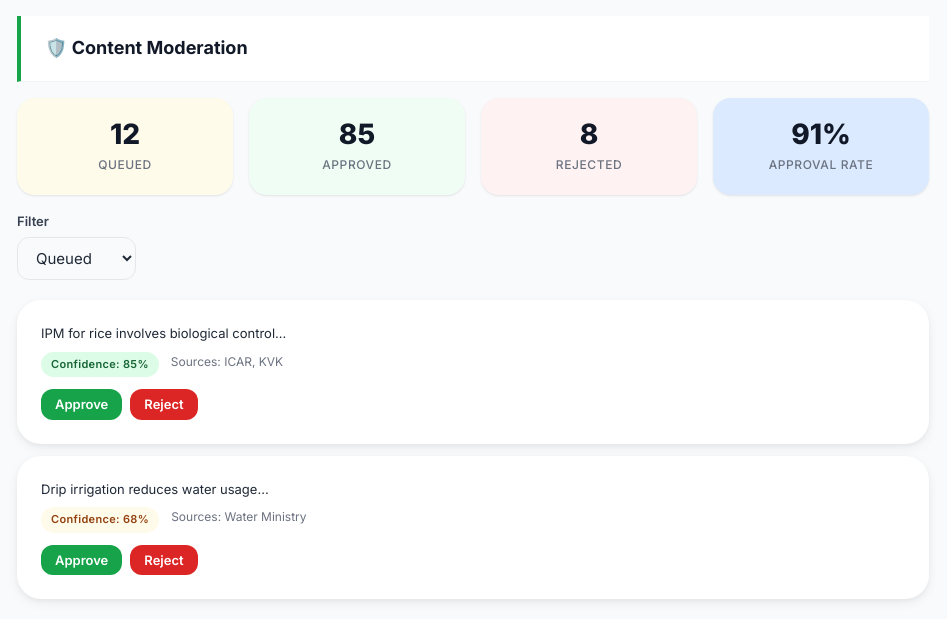
Test case: ContentModerationPage › removes item from queue after approval
The image size is (947, 619).
Click the button with test id "approve-mod1" at x=82, y=405, box [41, 390, 122, 420]
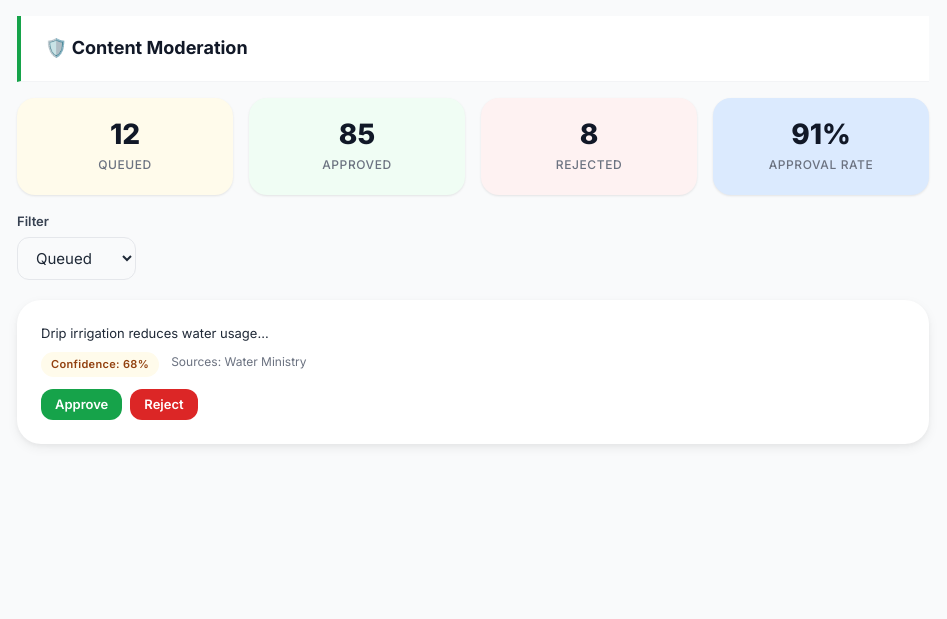
Expected: the element with test id "mod-item-mod1" is gone
